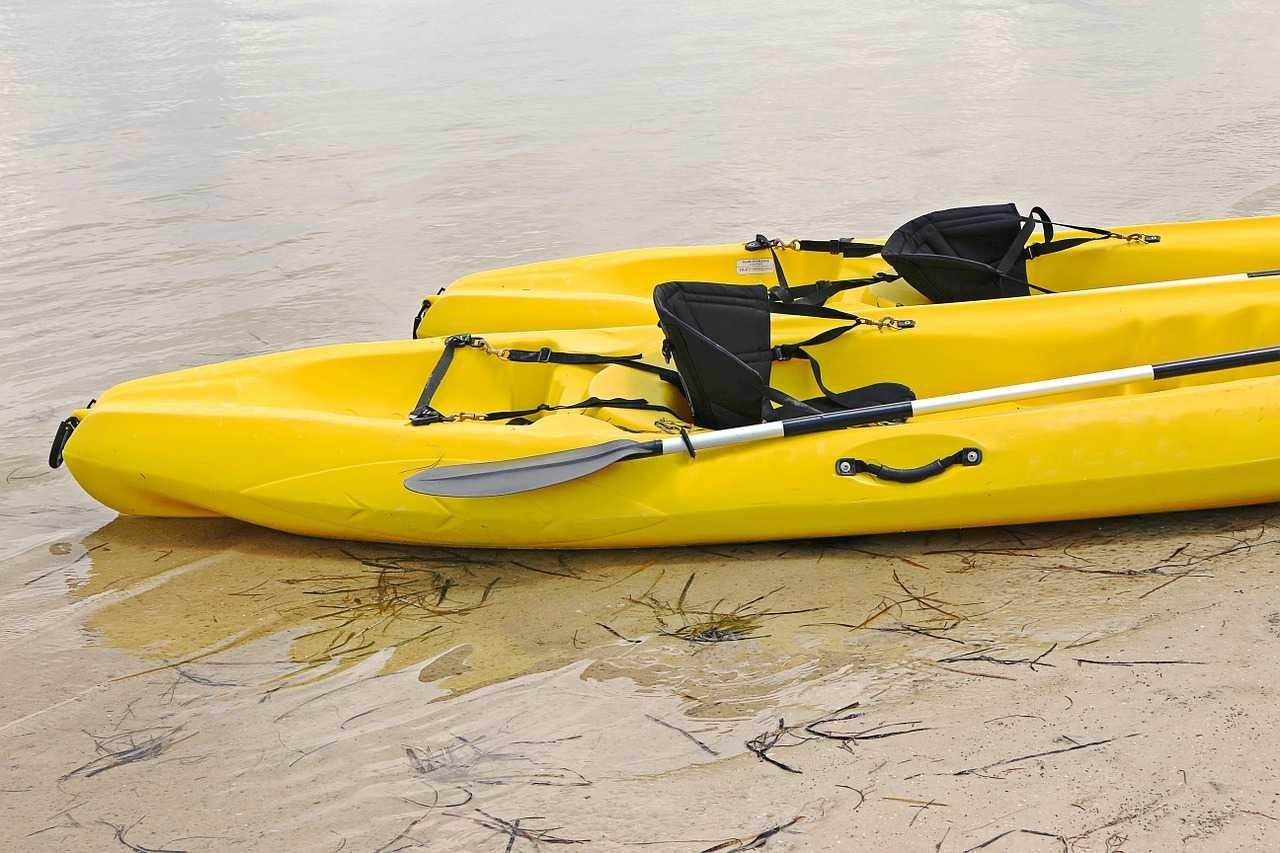kayak: (35, 242, 1276, 553), (415, 194, 1276, 343)
